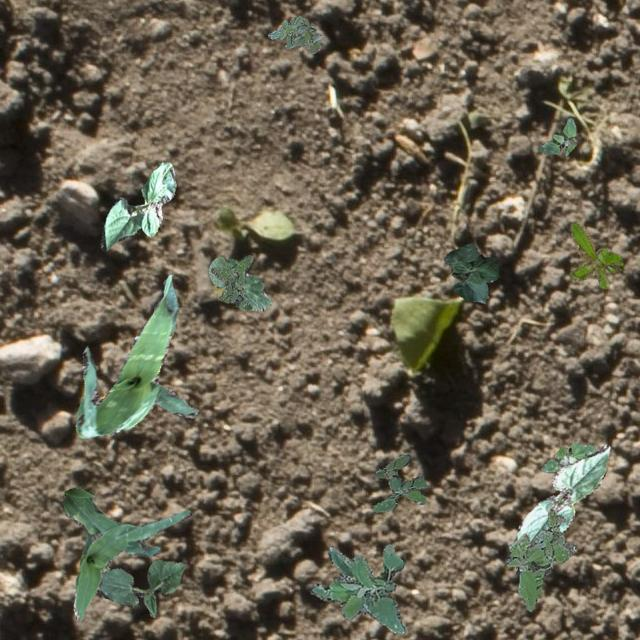crop: (75, 274, 196, 438), (61, 486, 190, 620), (514, 443, 610, 542), (100, 160, 174, 250), (96, 558, 185, 616), (442, 242, 498, 302), (208, 256, 270, 310)
weed: (310, 542, 406, 632), (506, 508, 576, 610), (568, 220, 622, 288), (372, 452, 426, 512), (210, 254, 252, 306), (266, 15, 321, 52), (540, 442, 594, 472), (536, 116, 574, 154)
